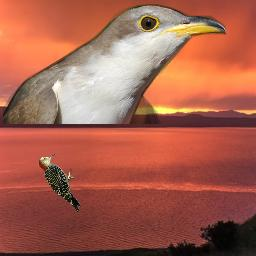Cuckoo: (3, 4, 226, 124)
Woodpecker: (37, 154, 82, 212)
